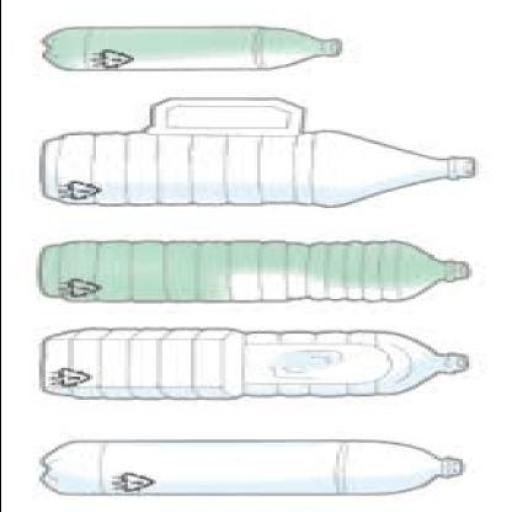plastic: (41, 100, 477, 208), (45, 329, 471, 401), (41, 241, 471, 305), (44, 442, 468, 498), (44, 30, 345, 72)
